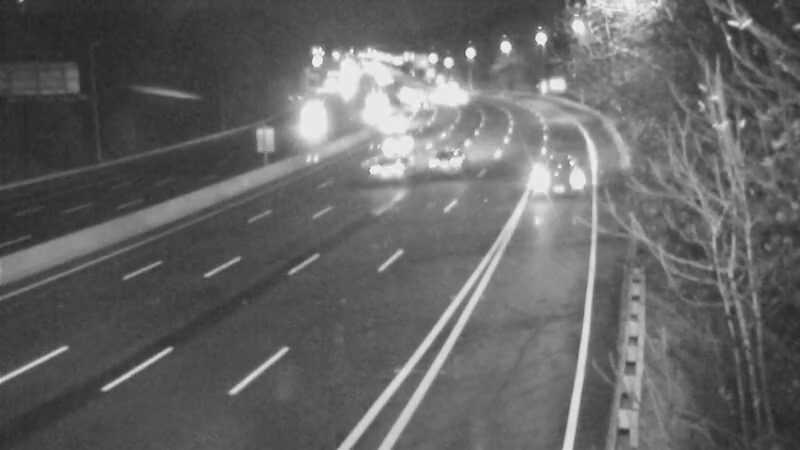vehicle: (409, 114, 489, 194), (349, 126, 429, 206), (517, 126, 597, 206), (369, 95, 419, 145), (377, 114, 427, 164), (277, 109, 327, 159), (347, 75, 397, 125)
